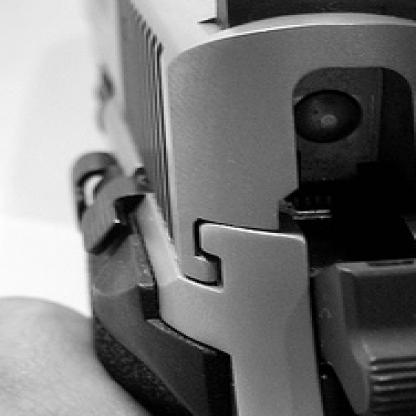gun: (35, 0, 414, 415)
